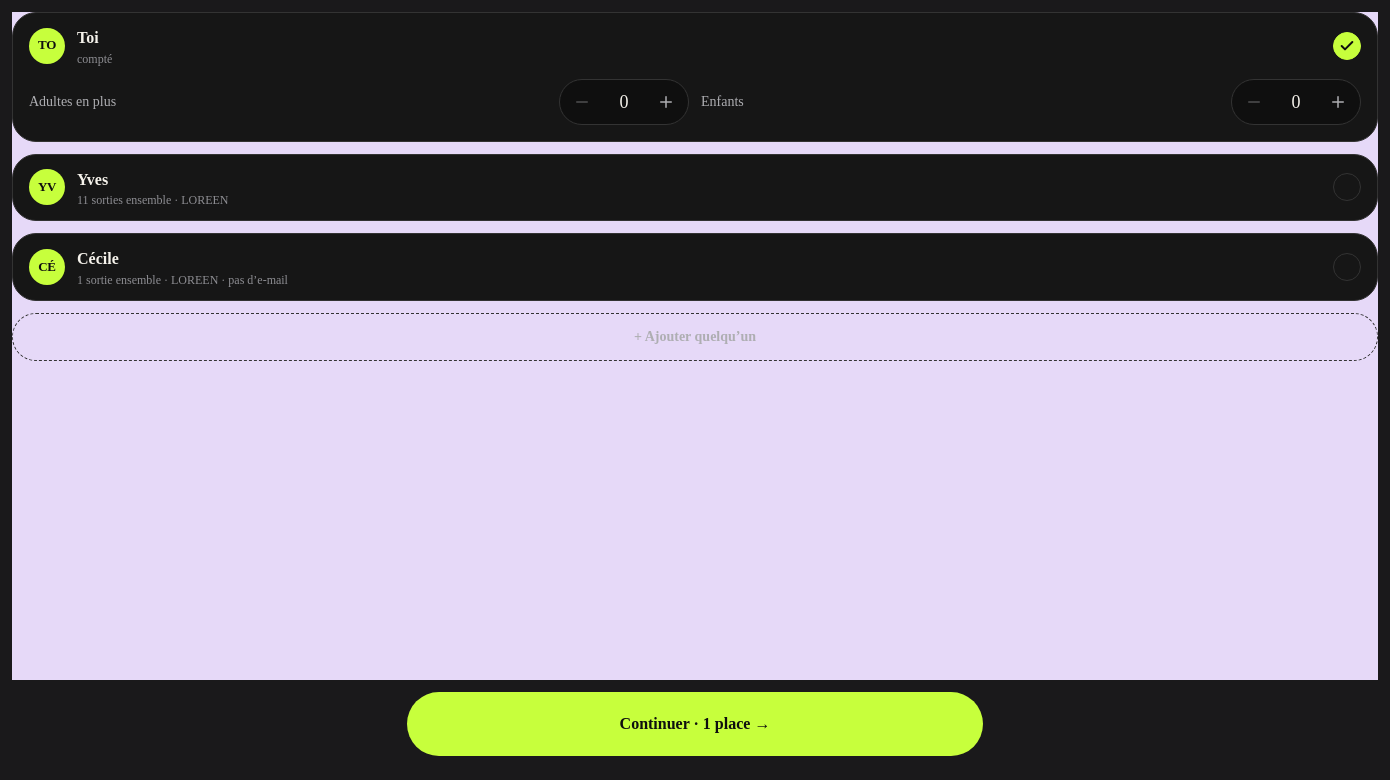
WhoIsComingForm › compte les places en cochant un habitué
Expected: the button "Continuer · 1 place →" is shown, x1=407 y1=692 x2=983 y2=756
Click the checkbox labelled "YV Yves 11 sorties ensemble · LOREEN" at (47, 187), box x1=13 y1=155 x2=1377 y2=220
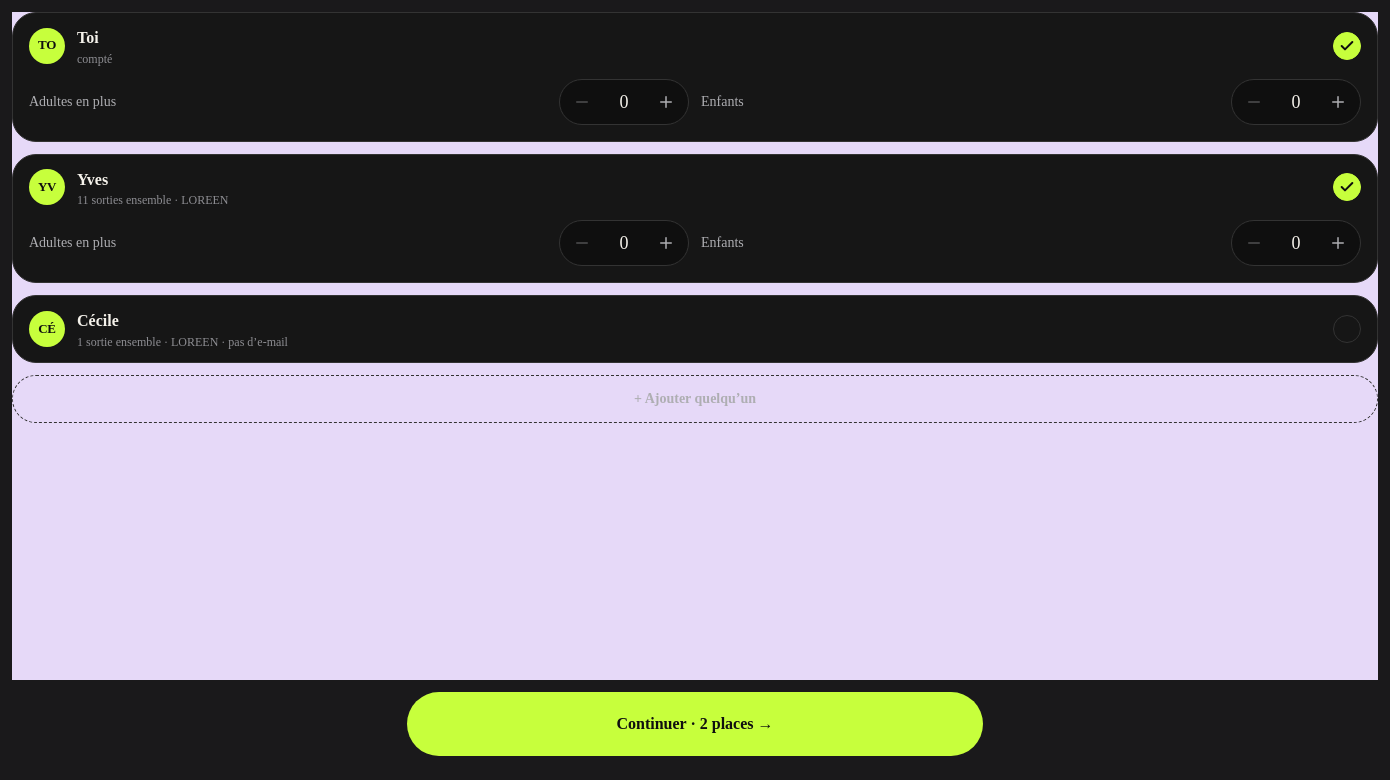
Expected: the button "Continuer · 2 places →" is shown, x1=407 y1=692 x2=983 y2=756
